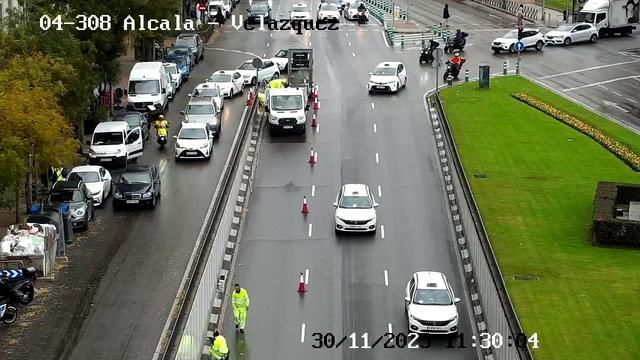car: (404, 271, 461, 336), (45, 181, 95, 231), (332, 184, 379, 234), (112, 164, 162, 209), (65, 166, 112, 207), (180, 97, 221, 138), (172, 123, 214, 160), (491, 27, 545, 53), (112, 111, 149, 148), (544, 22, 599, 46), (368, 62, 407, 94), (234, 59, 280, 86), (205, 70, 244, 98), (270, 48, 314, 72), (171, 34, 204, 64), (188, 83, 224, 109), (163, 54, 190, 81), (162, 60, 182, 89), (168, 45, 195, 66), (317, 2, 342, 23), (247, 2, 272, 23), (288, 3, 310, 24), (344, 2, 369, 20)
motorcycle: (0, 267, 37, 308), (443, 58, 466, 80), (444, 32, 466, 52), (153, 123, 170, 147), (419, 43, 435, 64)
truck: (86, 121, 143, 167), (124, 62, 168, 115), (575, 0, 639, 36), (265, 87, 310, 135)
